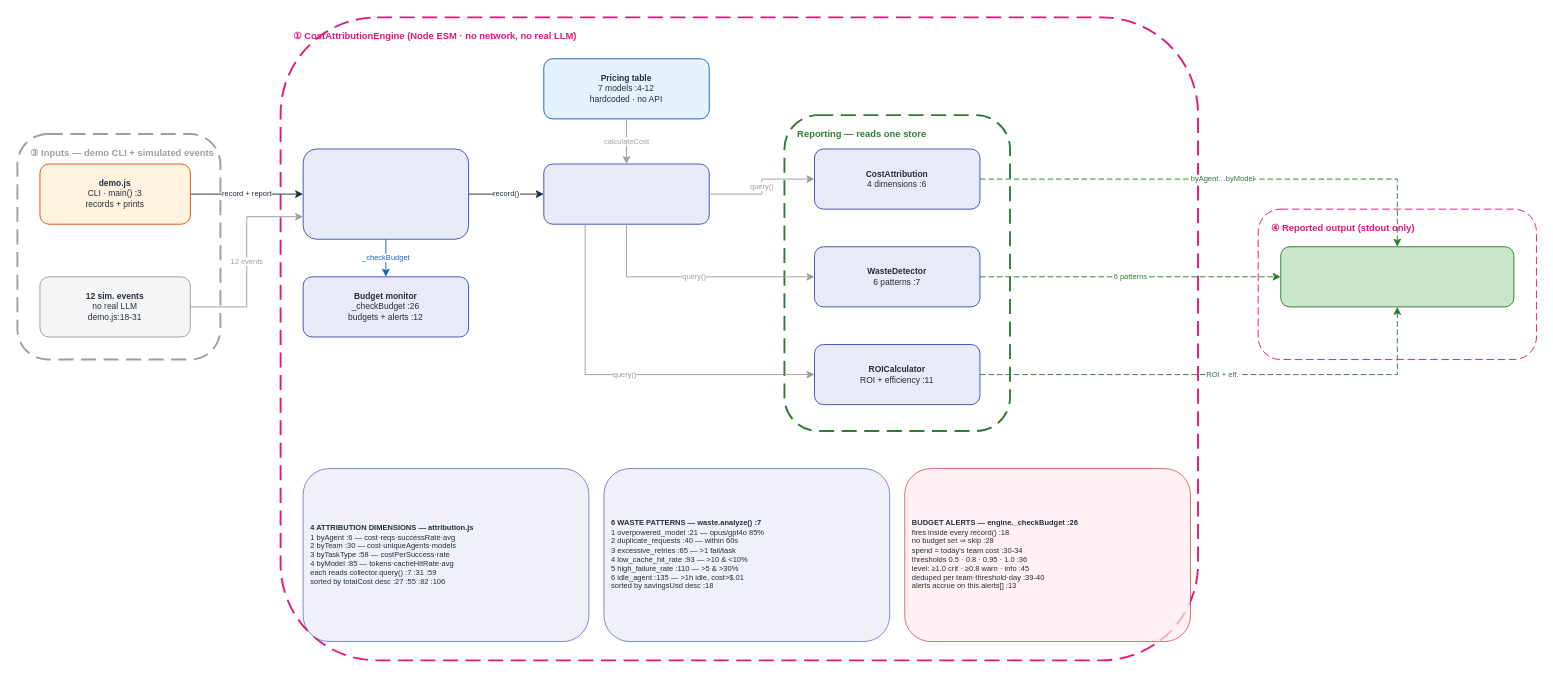
The diagram is 1553 pixels wide and 677 high, and some of its shapes have lost their labels. The shapes that lost their labels are listed below. From the top down, each one's centre as x and y in pixels, then its label:
At (385,193): "CostAttributionEngine engine.js — facade record + dashboard :16".
At (626,193): "CostCollector events[] store :3 query() :45".
At (1397,276): "stdout report console.log — demo.js:36-81".
